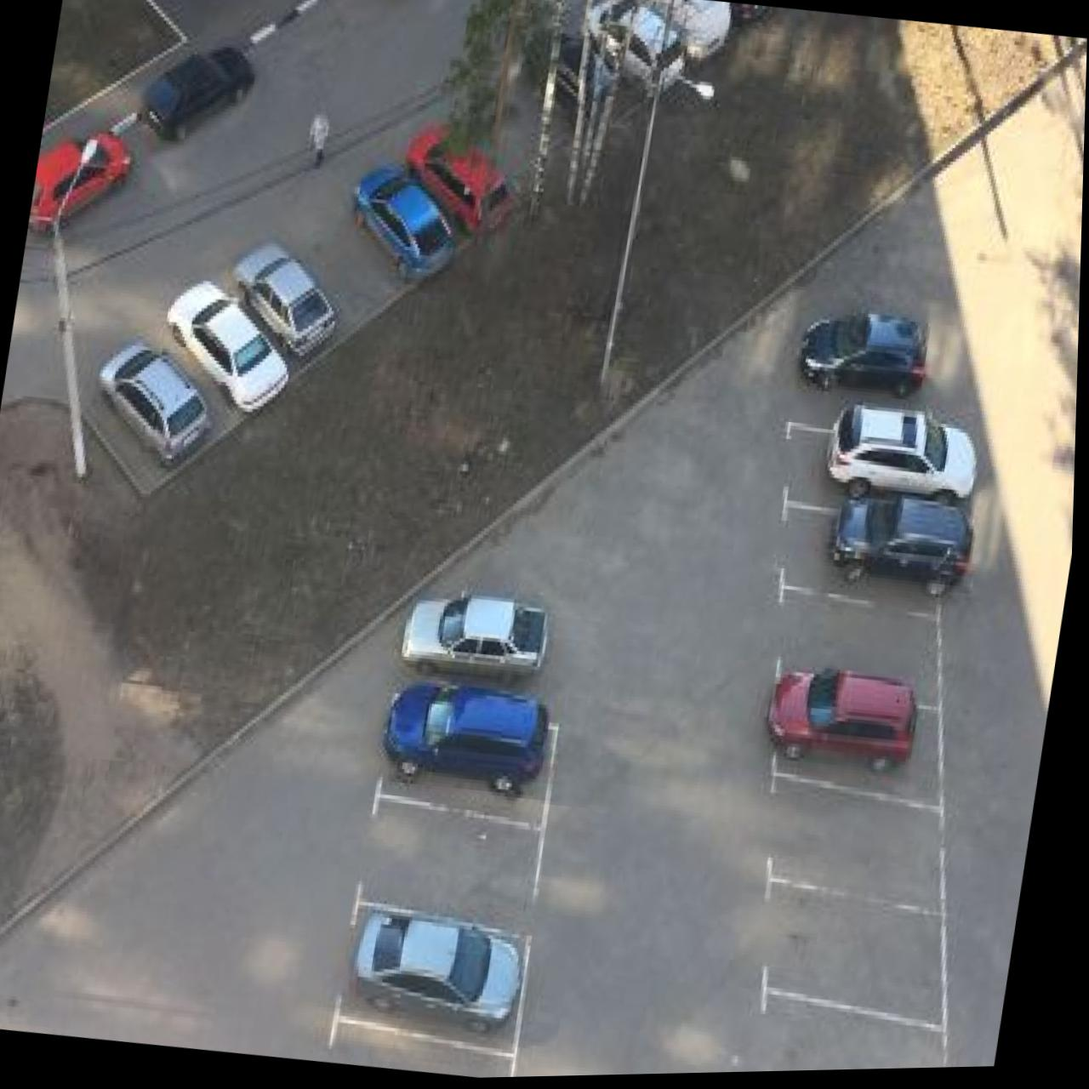cars: (68, 329, 228, 491), (332, 908, 531, 1032), (381, 702, 562, 817), (157, 284, 295, 429), (387, 102, 520, 240), (213, 222, 343, 362), (784, 505, 951, 611), (779, 682, 939, 791), (339, 153, 460, 295), (509, 27, 653, 146), (788, 409, 954, 509), (565, 0, 697, 115), (617, 0, 740, 67)
empty: (352, 802, 546, 920), (769, 889, 946, 1010), (782, 788, 942, 897), (785, 594, 946, 693), (277, 196, 393, 321), (764, 997, 942, 1071), (466, 68, 574, 189)
